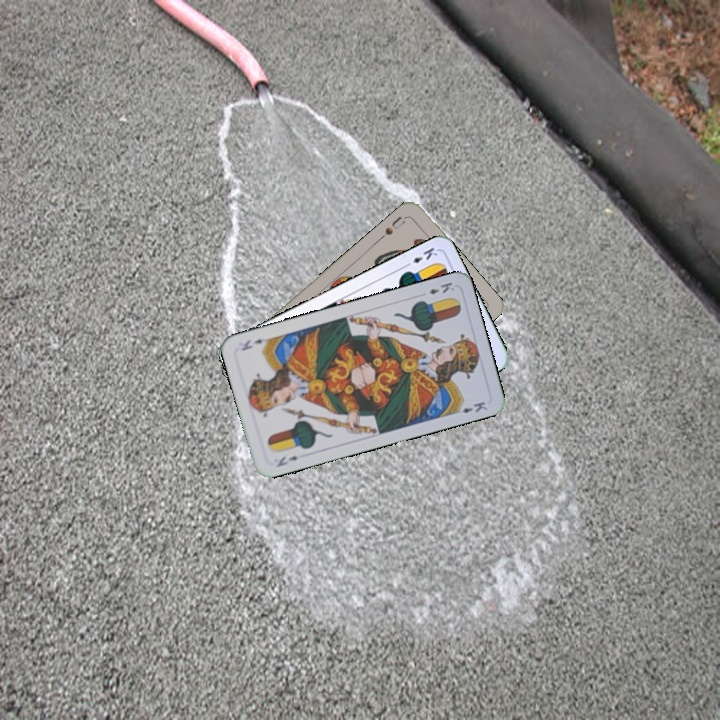EK: (401, 243, 440, 270), (416, 278, 457, 299), (272, 452, 300, 470)
SU: (376, 212, 408, 242)
